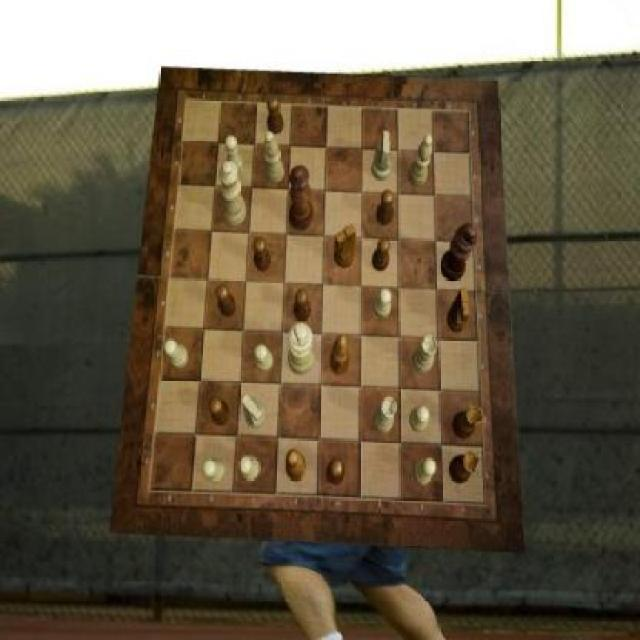bishop: (331, 336, 351, 376), (286, 449, 307, 483)
black-bishop: (440, 223, 477, 282)
black-king: (448, 288, 470, 333), (334, 224, 356, 268)
black-knight: (217, 284, 237, 318), (375, 190, 393, 226), (372, 237, 390, 271), (209, 397, 230, 426), (268, 97, 284, 135), (294, 289, 311, 323), (254, 237, 271, 271), (328, 458, 345, 484)
black-pawn: (289, 165, 314, 230)
black-queen: (452, 406, 483, 440), (449, 450, 479, 484)
black-rook: (264, 131, 286, 183), (410, 134, 432, 186)
white-bishop: (288, 322, 314, 376)
white-king: (371, 130, 391, 182), (243, 394, 268, 428)
white-knight: (224, 135, 243, 174), (164, 340, 188, 369), (414, 459, 437, 486), (203, 457, 226, 482), (238, 455, 260, 481), (411, 406, 431, 434), (374, 288, 391, 318), (256, 345, 274, 372)
white-pawn: (220, 160, 248, 226)
white-queen: (412, 335, 438, 373), (372, 397, 396, 433)
